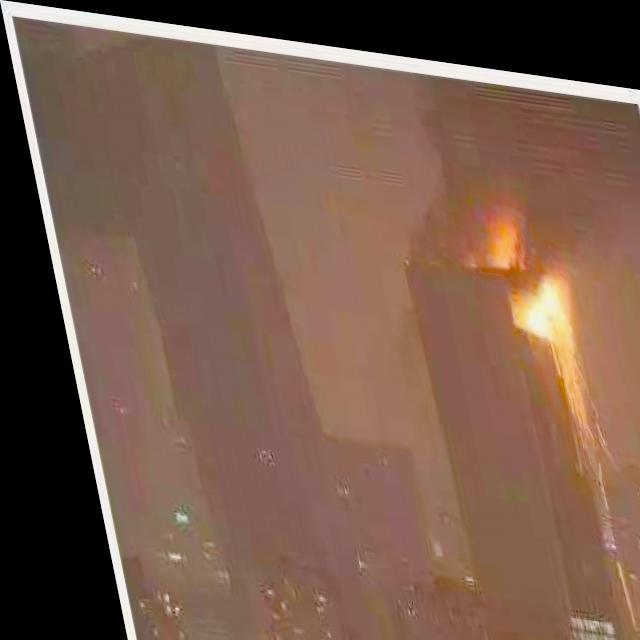Fire: (490, 242, 576, 356)
